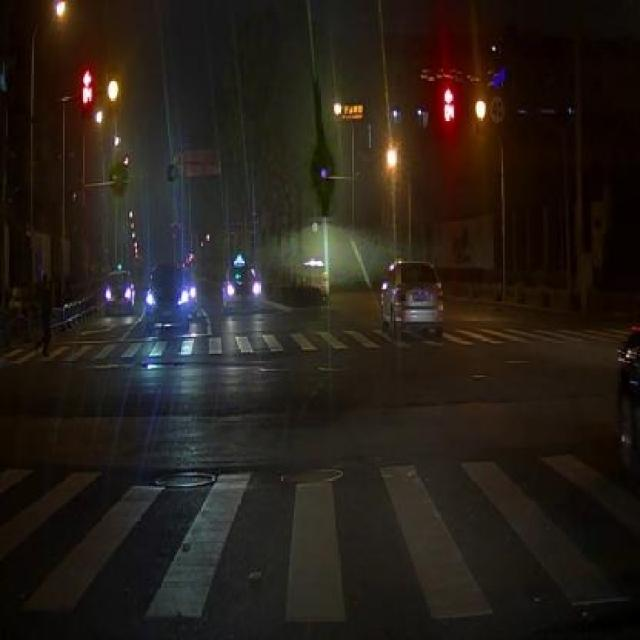forb_speed_over_40: (489, 92, 509, 129)
